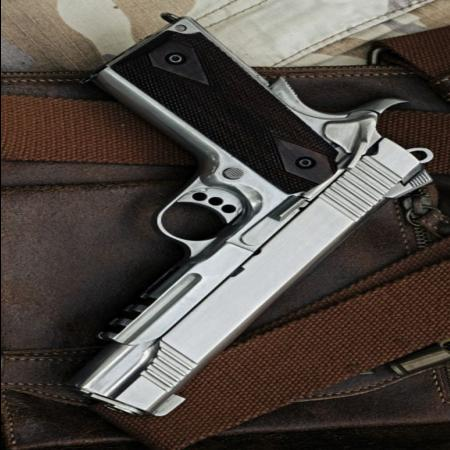Pistol: (69, 10, 436, 430)
